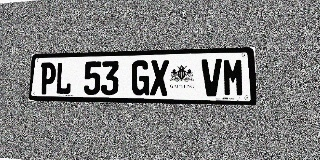3: (101, 61, 119, 95)
5: (84, 61, 101, 95)
G: (131, 60, 150, 96)
L: (55, 62, 72, 95)
M: (223, 58, 245, 97)
P: (39, 62, 56, 95)
V: (201, 59, 222, 96)
X: (150, 60, 169, 96)
